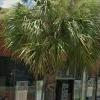Palm tree: (13, 1, 71, 100)
